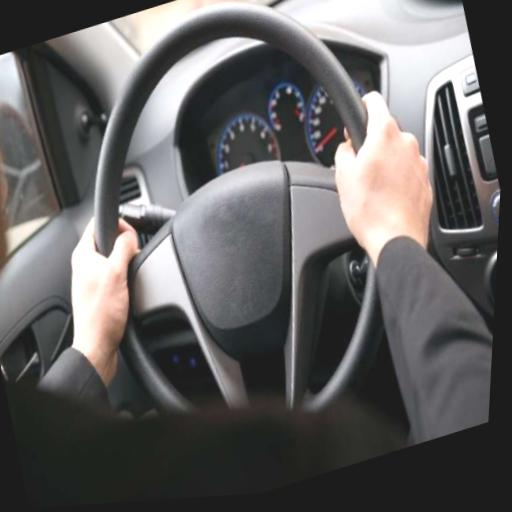Hands-on-the-Wheel: (286, 53, 467, 277), (36, 189, 179, 372)
